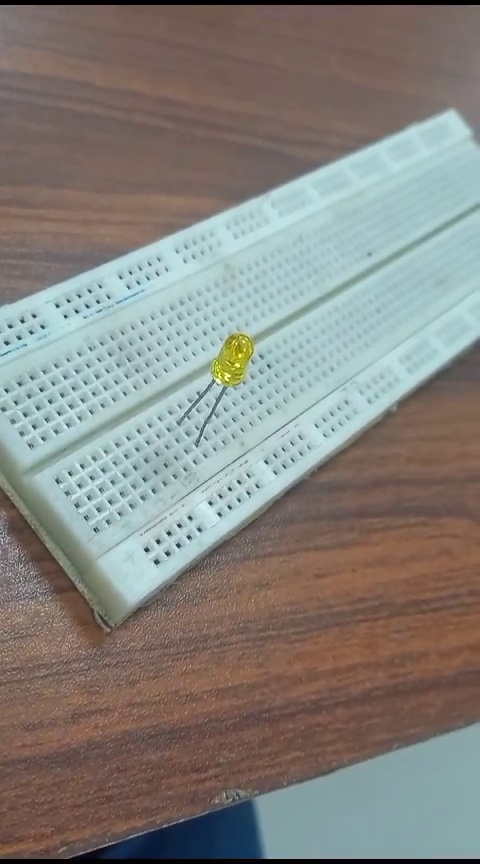LED: (179, 320, 255, 456)
